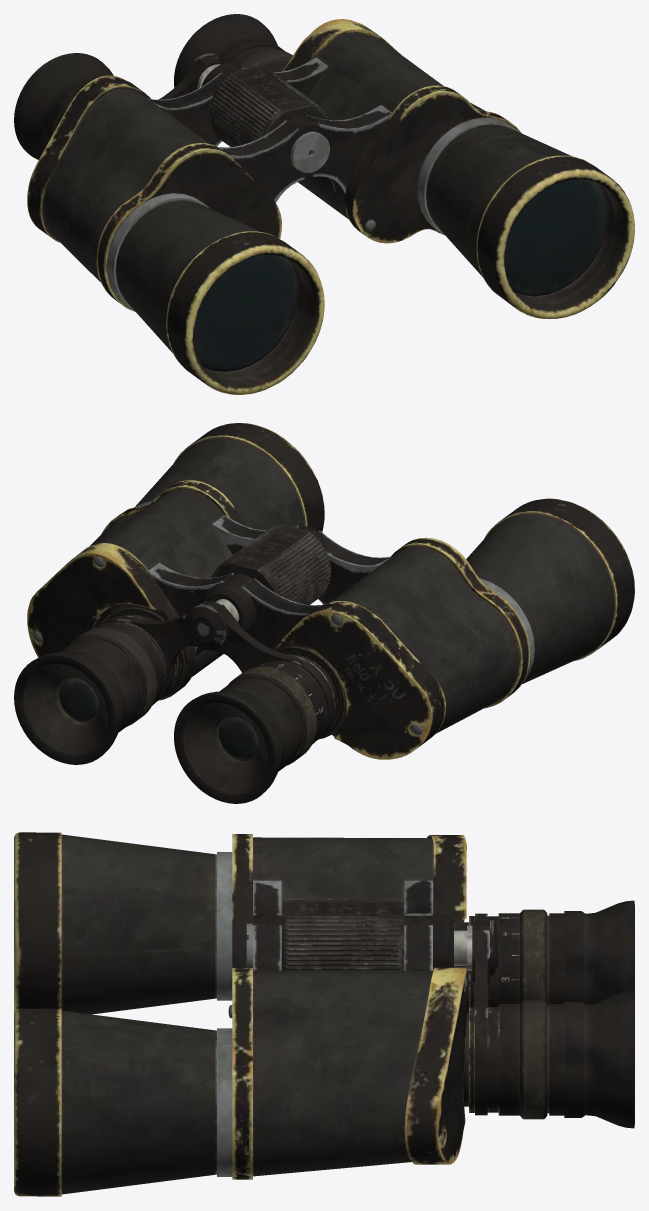
File: binocular.glb
3 views of the same model, one above another, from view 1: azimuth 30°, elevation 25°; view 2: azimuth 150°, elevation 25°; view 3: azimuth 270°, elevation 25° (orthographic). The views are drawn at different scales.
Visible parts, largest first — view 1: vintage_binocular_left_lens; view 2: vintage_binocular_left_lens; view 3: vintage_binocular_left_lens.
Part boxes in pixels (box(x1,y1,x2,y2)): vintage_binocular_left_lens: box(14, 14, 634, 394); vintage_binocular_left_lens: box(14, 423, 634, 803); vintage_binocular_left_lens: box(14, 832, 634, 1196).
Size of the model in its own units: 0.194 by 0.0684 by 0.1992.
1 material, 1 textured.
